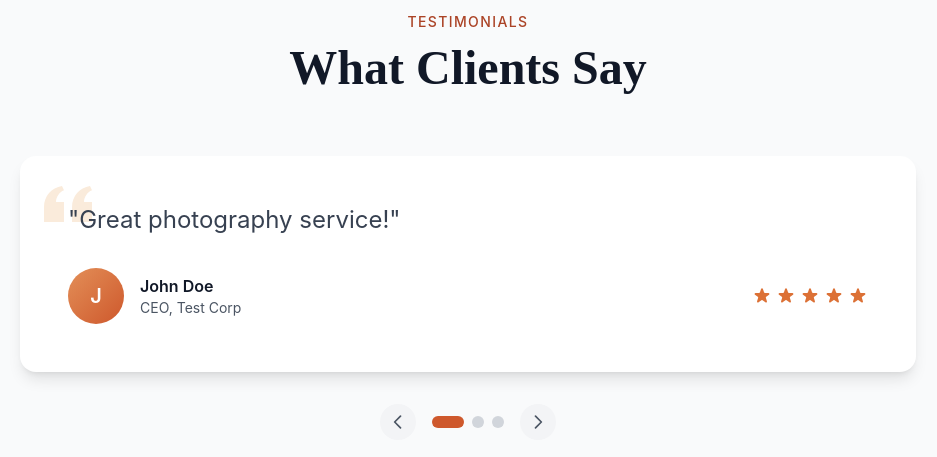
Scenario: TestimonialsSection › shows previous testimonial when clicking prev button
# Go to second testimonial first
Click the button named "next testimonial". click: (538, 422)
box: left=520, top=404, right=556, bottom=440
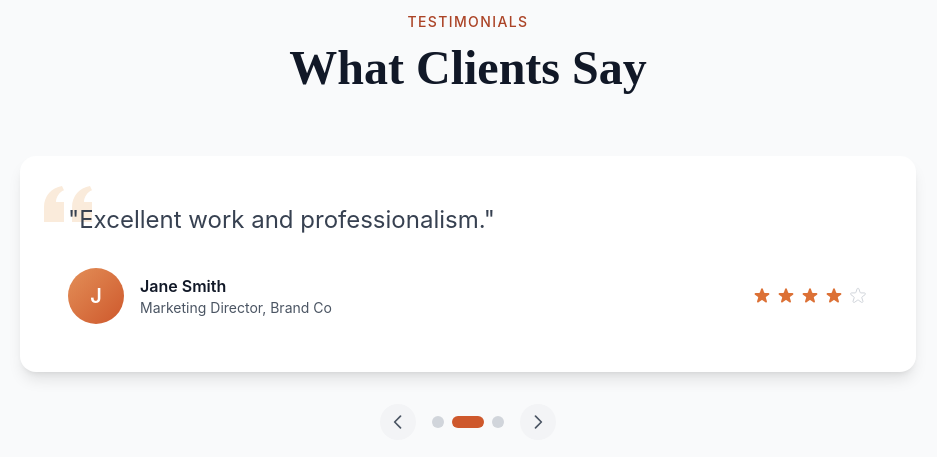
# Then go back
Click the button named "previous testimonial". click: (398, 422)
box: left=380, top=404, right=416, bottom=440
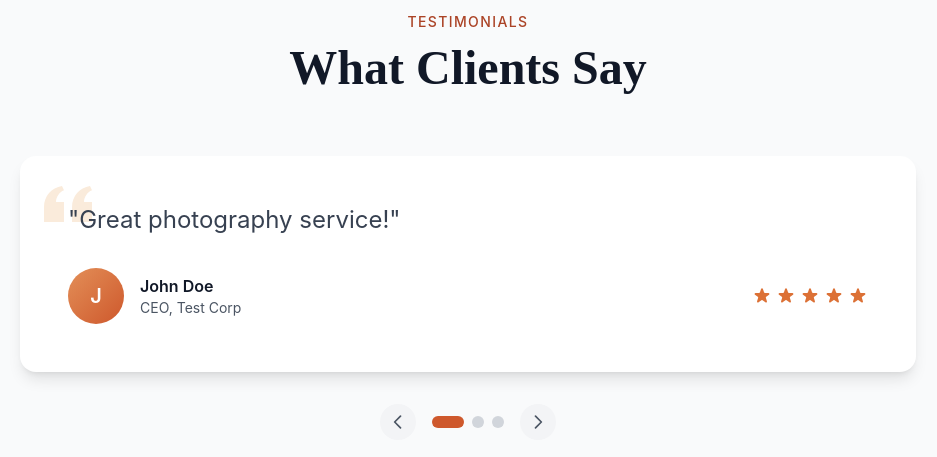
Expected: the text "\"Great photography service!\"" is shown, left=68, top=205, right=400, bottom=234
